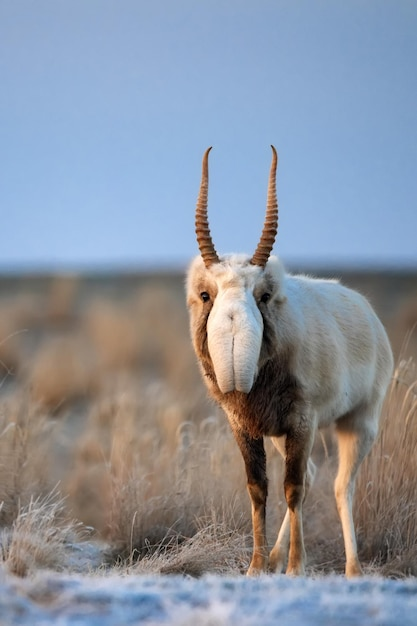saiga: (184, 144, 417, 576)
